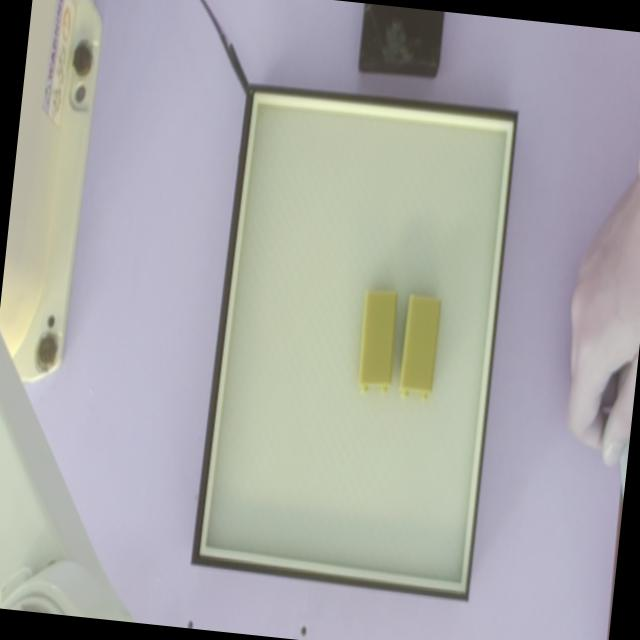bateria: (398, 293, 442, 399), (357, 290, 398, 393)
mesa: (190, 84, 518, 600)
